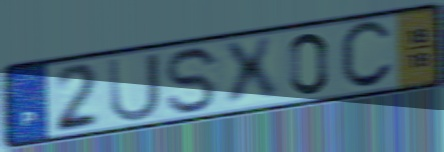0: (287, 31, 329, 97)
2: (51, 61, 102, 135)
C: (338, 18, 397, 92)
S: (163, 44, 223, 117)
U: (105, 50, 163, 126)
X: (219, 34, 283, 110)
